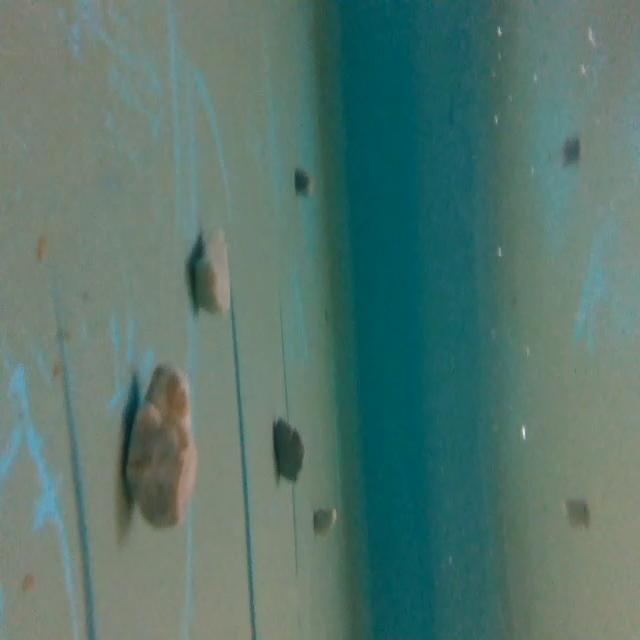rock: (125, 363, 204, 533), (188, 218, 233, 322), (271, 413, 308, 489), (310, 505, 336, 535), (292, 167, 312, 199)
